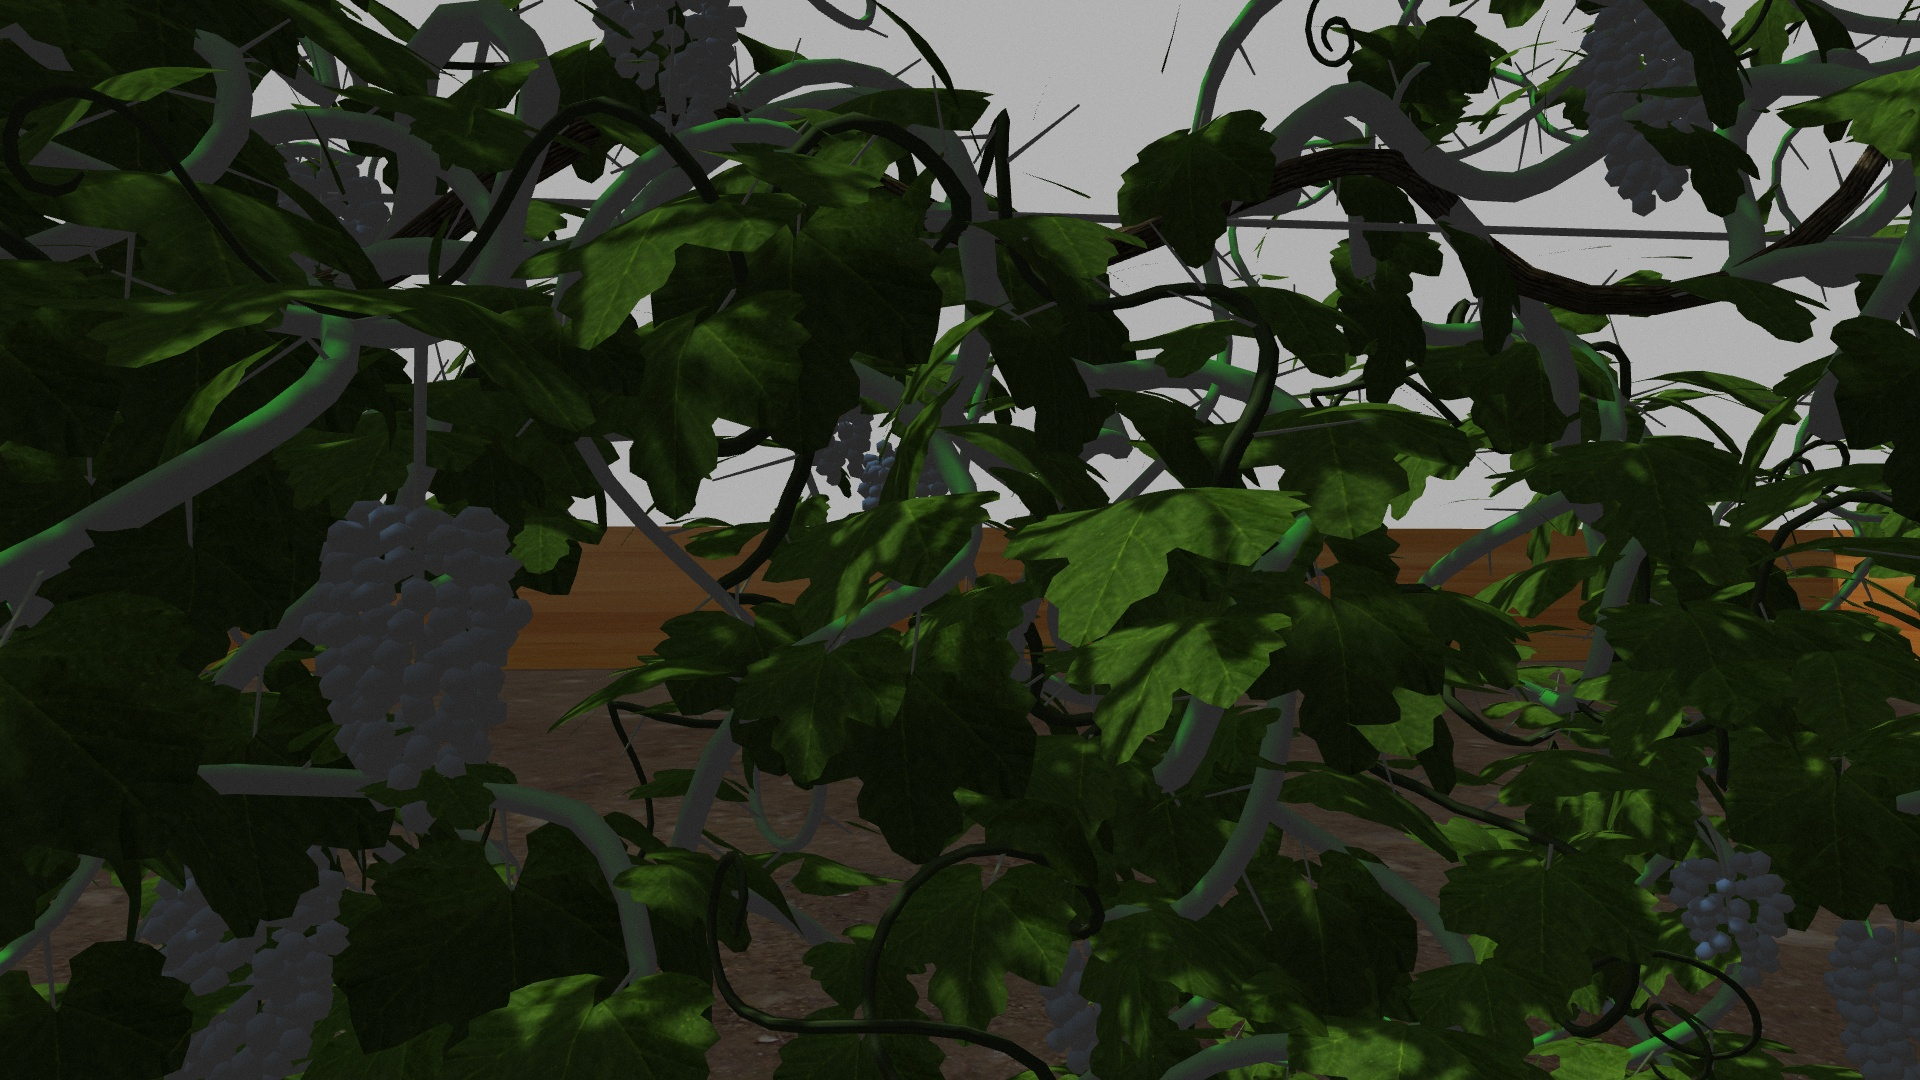grape: (305, 498, 531, 789), (140, 851, 345, 1069), (1577, 11, 1710, 214), (1669, 839, 1796, 989), (592, 4, 748, 123), (1826, 919, 1915, 1073)
